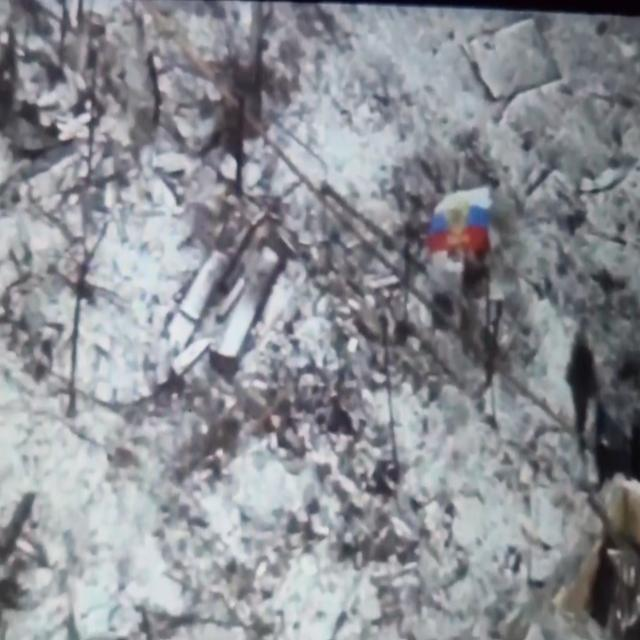infantry: (564, 330, 599, 438)
